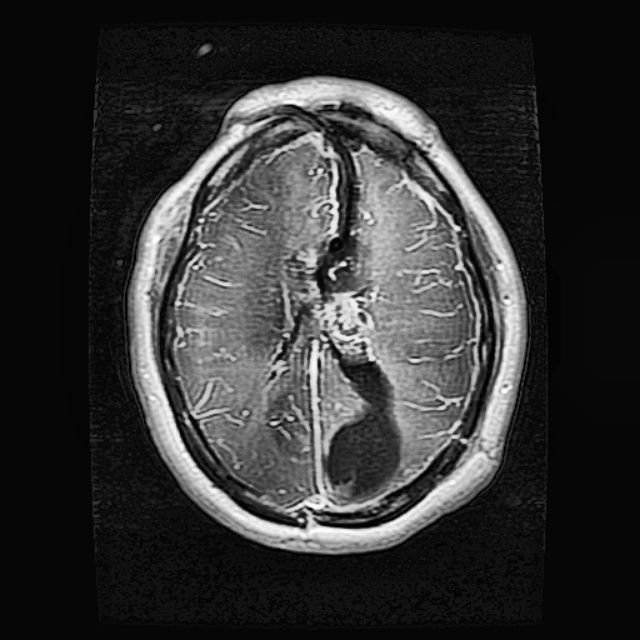Meningioma: (295, 140, 405, 504)
